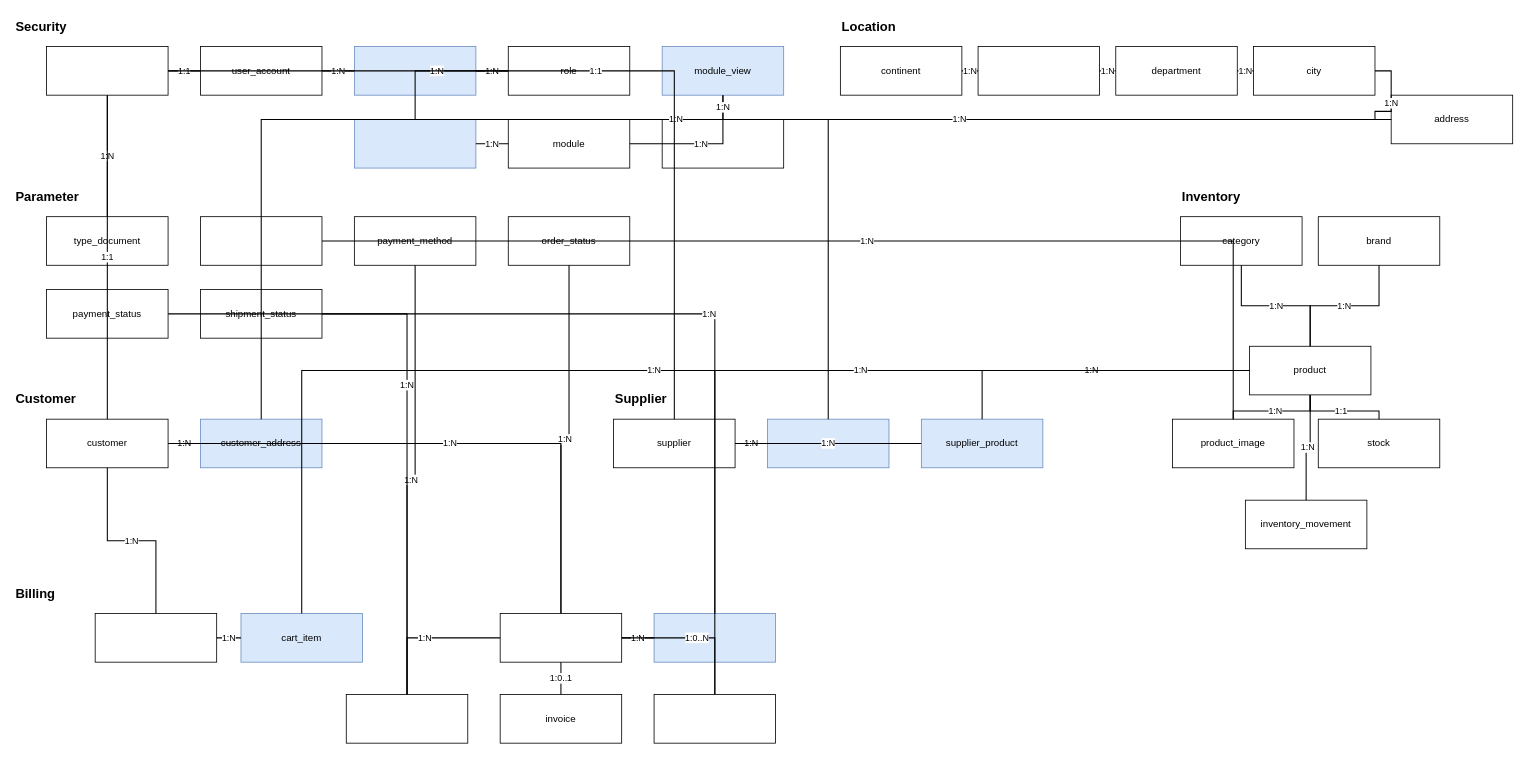
This 1527x757 diagram has some shape labels left out. The shapes that lost their labels are listed below. From the top down, each one's box as (x1, y1, x2, y2) in pixels, then its label:
(46, 46, 168, 95): person
(354, 46, 476, 95): user_role
(977, 46, 1100, 95): country
(354, 119, 476, 168): role_module
(661, 119, 784, 168): app_view
(200, 216, 322, 265): file
(767, 418, 889, 468): supplier_address
(94, 613, 217, 662): cart
(499, 613, 622, 662): order
(653, 613, 776, 662): order_item
(345, 694, 468, 743): payment
(653, 694, 776, 743): shipment
